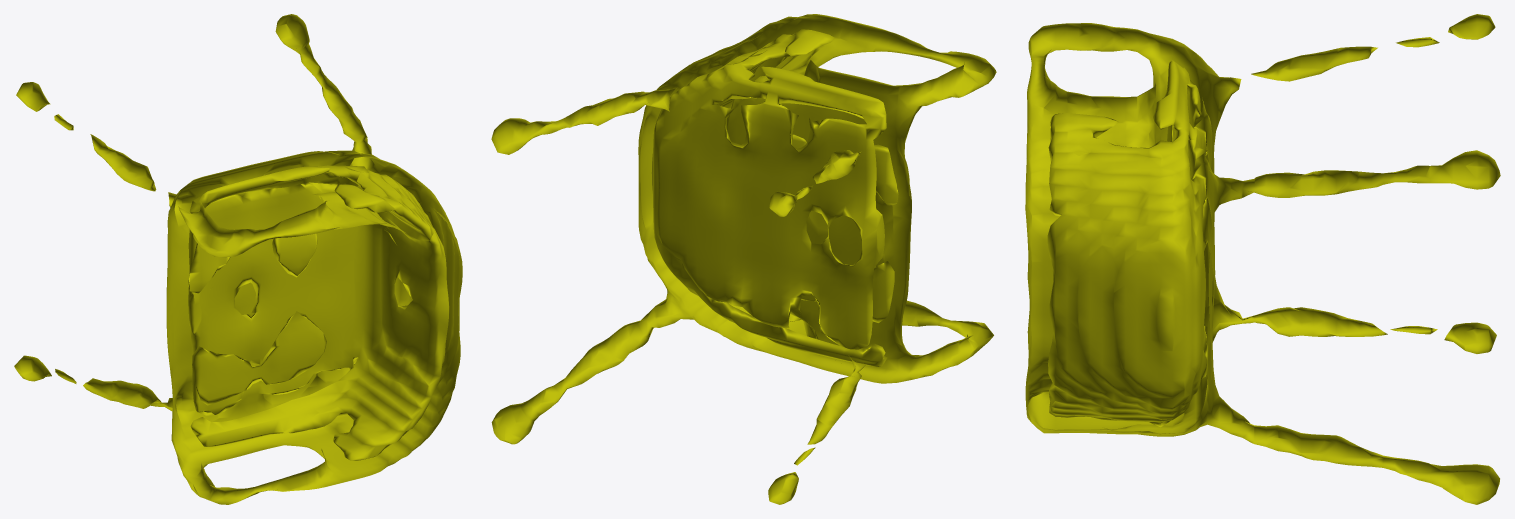
3 renders of one model, left to right at view 1: azimuth 30°, elevation 25°; view 2: azimuth 150°, elevation 25°; view 3: azimuth 270°, elevation 25°, orthographic. The views are drawn at different scales.
Parts seen in each view (by area): view 1: world; view 2: world; view 3: world.
Boxes of the visible parts, x1,y1,x2,y2 form: world: (14, 14, 462, 504); world: (491, 14, 996, 504); world: (1025, 14, 1500, 504).
Bounding box in the file's own units: 32.43 × 33.16 × 40.57.
